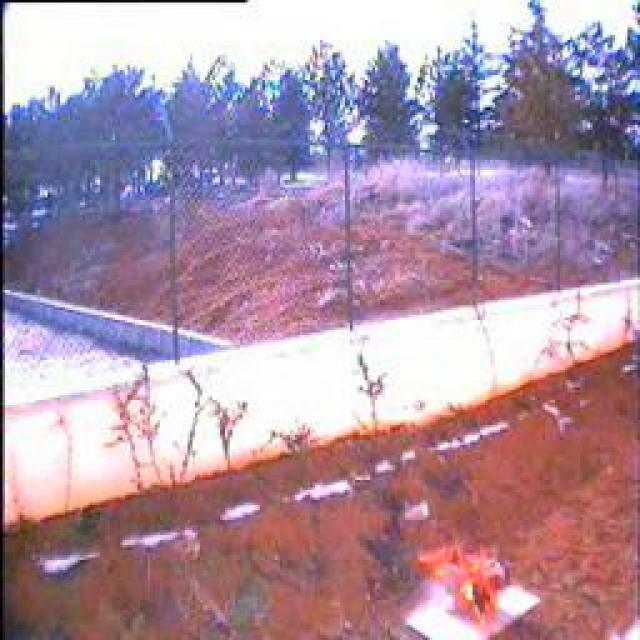Fire: (415, 533, 509, 639)
